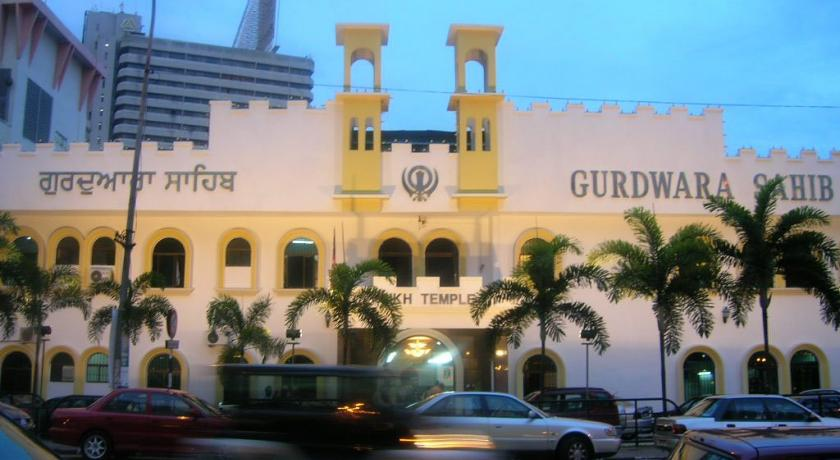Gurdwara: (29, 14, 830, 399)
